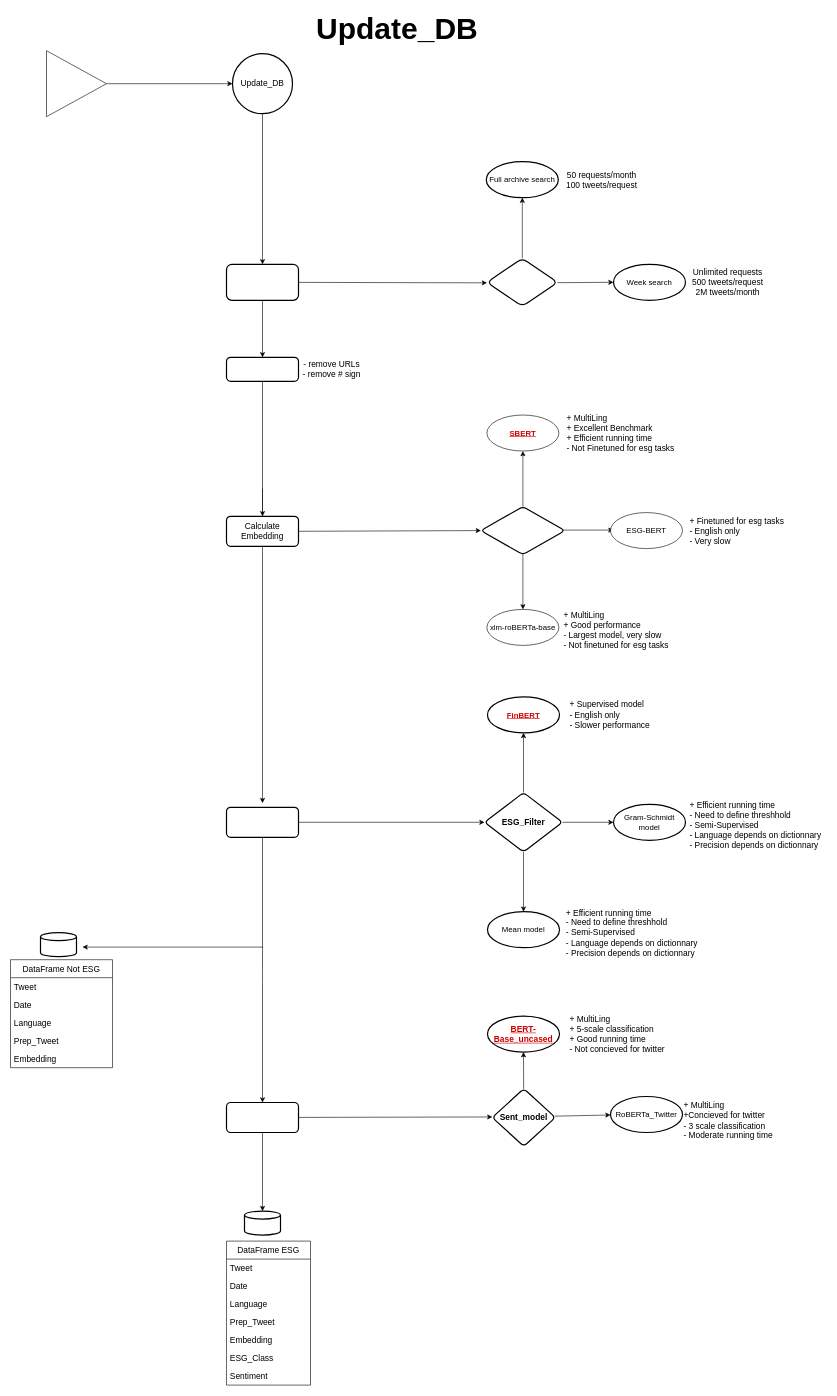
This 837x1396 diagram has some shape labels left out. The shapes that lost their labels are listed below. From the top down, each one's centre as x and y in pixels, then its label:
At point (76, 83): "Company Language".
At point (262, 282): "Scrap new tweets".
At point (522, 282): "Scraper".
At point (262, 369): "Preprocess".
At point (522, 530): "Embedder".
At point (262, 822): "E, S, G or NOT".
At point (262, 1117): "Sentiment Analysis".
